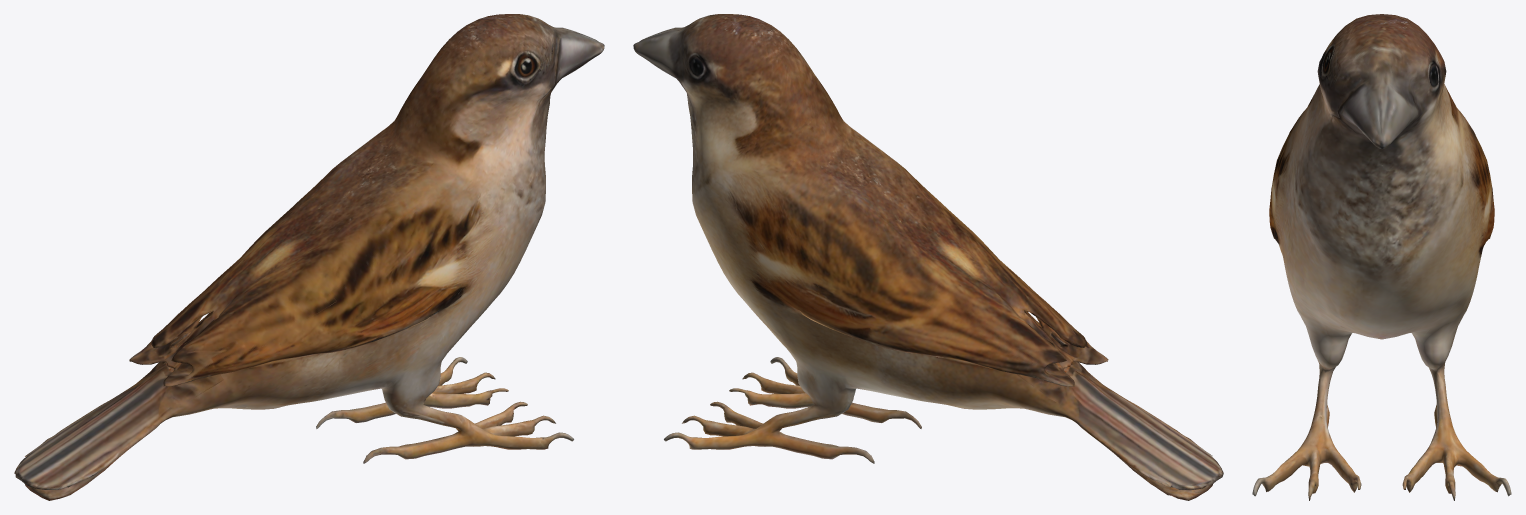
The model's file is sparrow.glb.
3 renders of one model, left to right at view 1: azimuth 30°, elevation 25°; view 2: azimuth 150°, elevation 25°; view 3: azimuth 270°, elevation 25°, orthographic. The views are drawn at different scales.
Parts seen in each view (by area): view 1: Object_2; view 2: Object_2; view 3: Object_2.
Part boxes in pixels (bbox=[...]): Object_2: bbox=[14, 14, 604, 500]; Object_2: bbox=[633, 14, 1223, 500]; Object_2: bbox=[1252, 14, 1511, 500].
Bounding box in the file's own units: 2 × 1.29 × 0.6441.
1 material, 1 textured.
